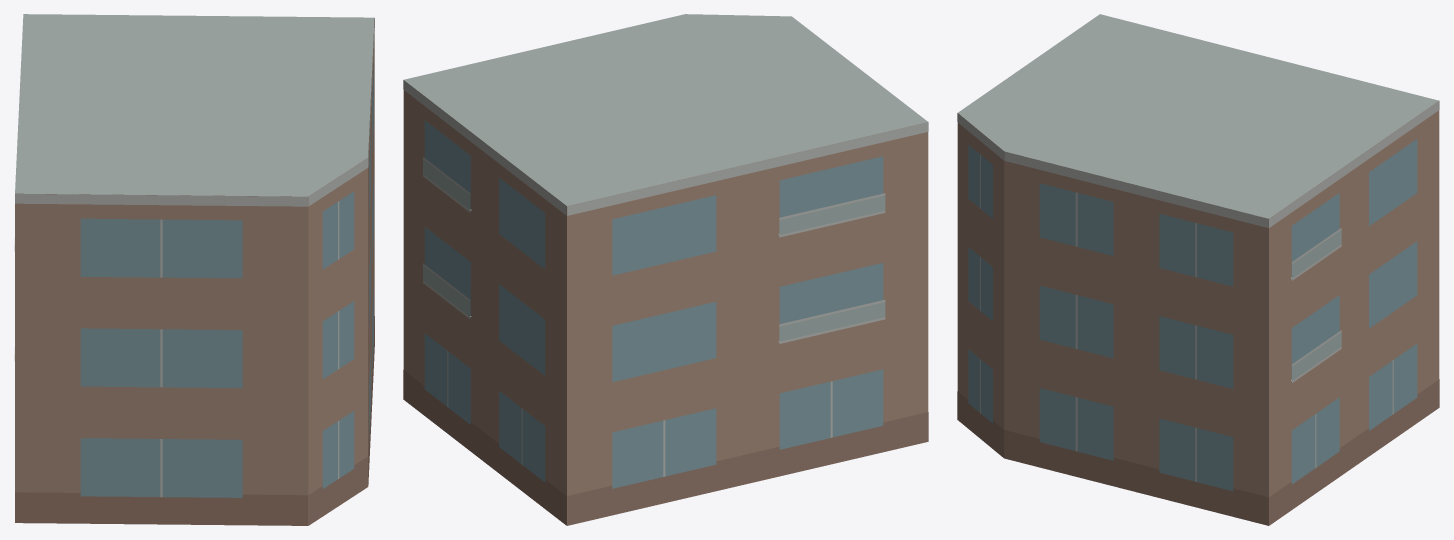
File: survey-upis-32683912.glb
3 renders of one model, left to right at view 1: azimuth 30°, elevation 25°; view 2: azimuth 150°, elevation 25°; view 3: azimuth 270°, elevation 25°, orthographic. The views are drawn at different scales.
Parts seen in each view (by area): view 1: survey-upis-32683912.tmp; view 2: survey-upis-32683912.tmp; view 3: survey-upis-32683912.tmp.
Boxes of the visible parts, x1,y1,x2,y2 form: survey-upis-32683912.tmp: (14,14,374,525); survey-upis-32683912.tmp: (403,14,928,525); survey-upis-32683912.tmp: (957,14,1439,525).
Bounding box in the file's own units: 11.46 × 8 × 11.39.
